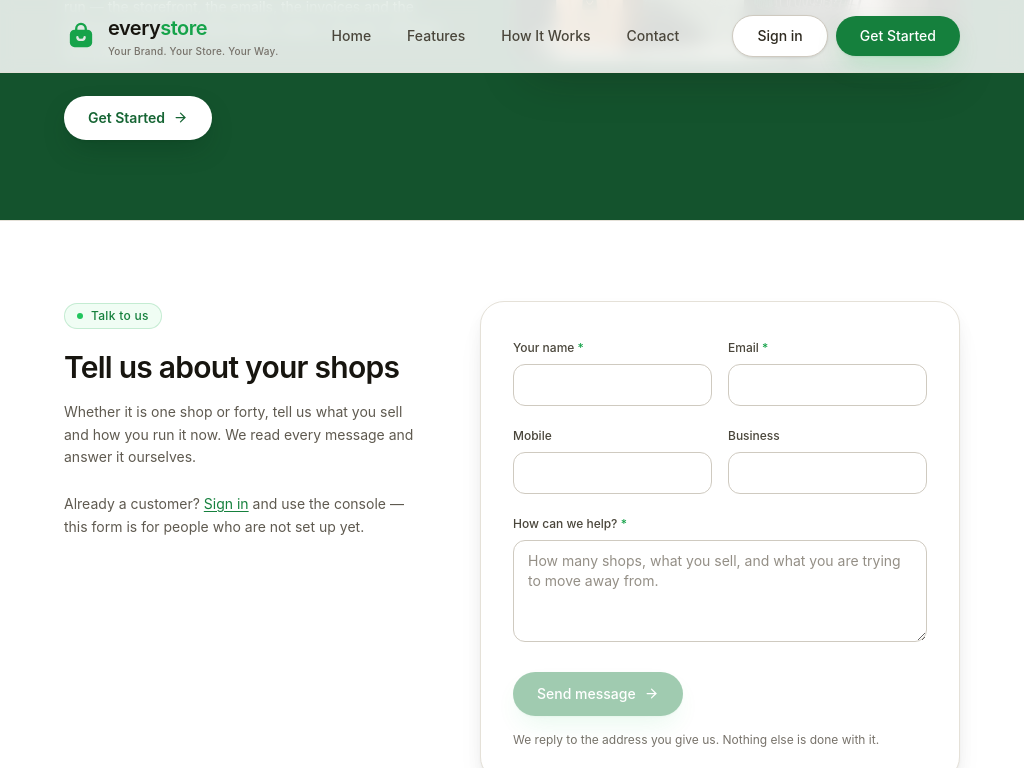
Test: the contact form on the landing page › will not send until there is a name, an address and something to say
The width and height of the screenshot is (1024, 768).
(page scrolled)
Expected: the button "Send message" is disabled, x1=513 y1=672 x2=683 y2=716
In the field labelled "Your name *": (612, 385) x1=513 y1=364 x2=712 y2=406, type "Priya Raman"
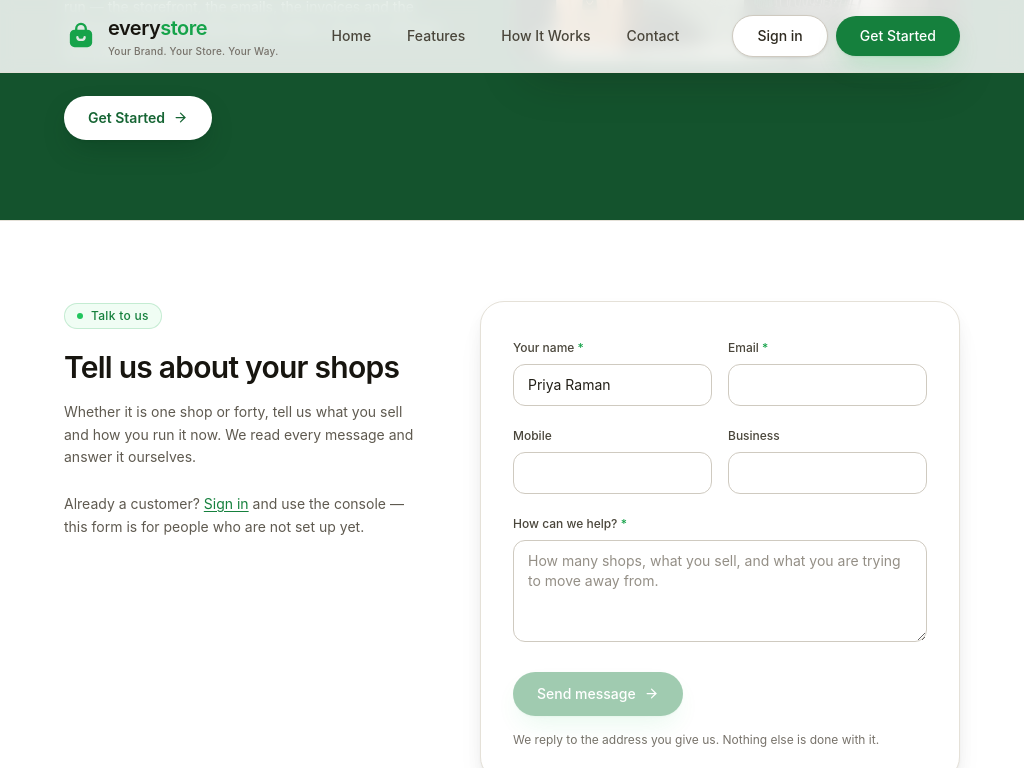
In the field labelled "Email *": (828, 385) x1=728 y1=364 x2=927 y2=406, type "priya@"
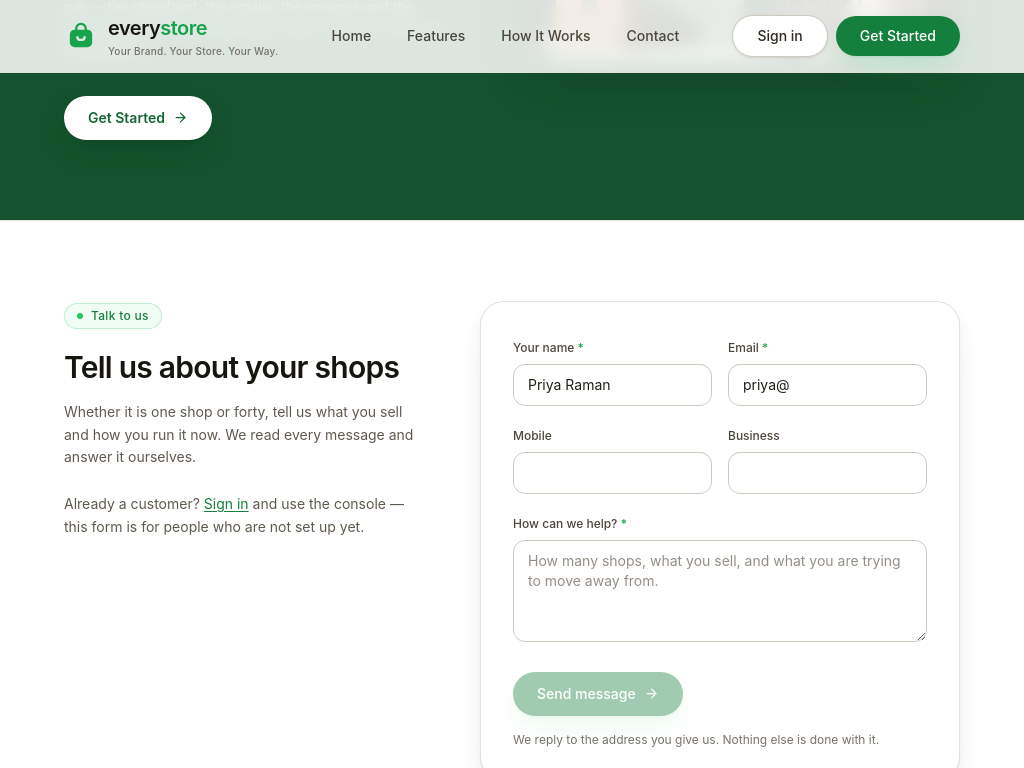
Replace the text in the text box labelled "How can we help? *" with "too short": (720, 591) x1=513 y1=540 x2=927 y2=642
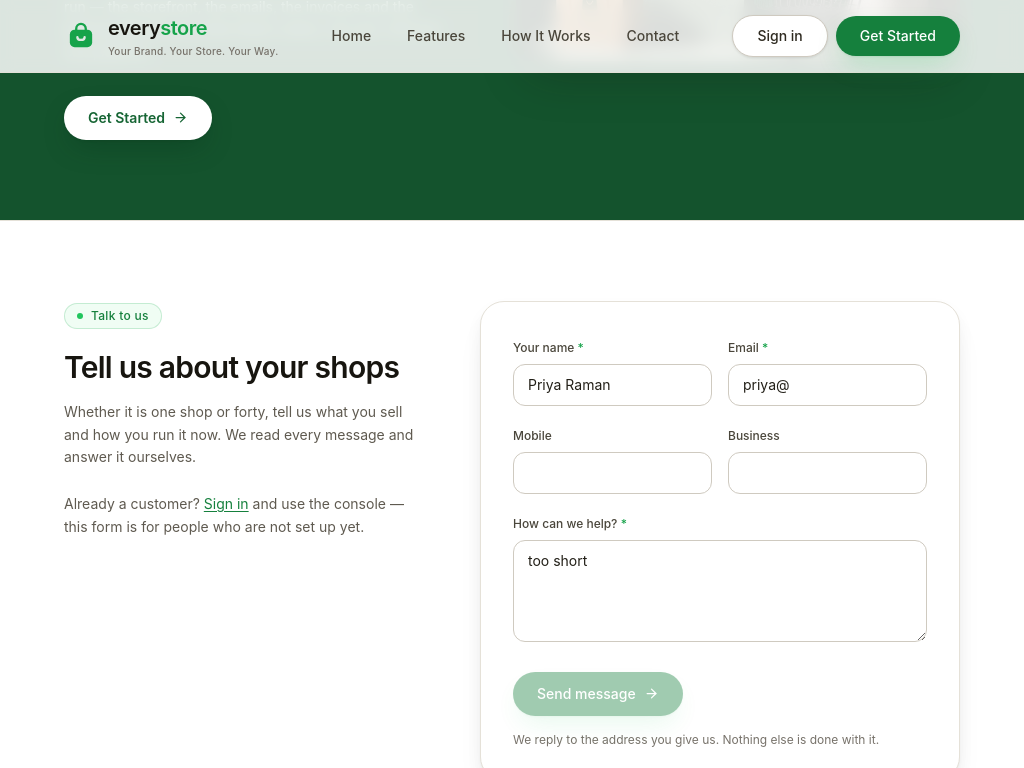
Expected: the button "Send message" is disabled, x1=513 y1=672 x2=683 y2=716
Replace the text in the field labelled "Email *" with "priya@northwind.example": (828, 385) x1=728 y1=364 x2=927 y2=406
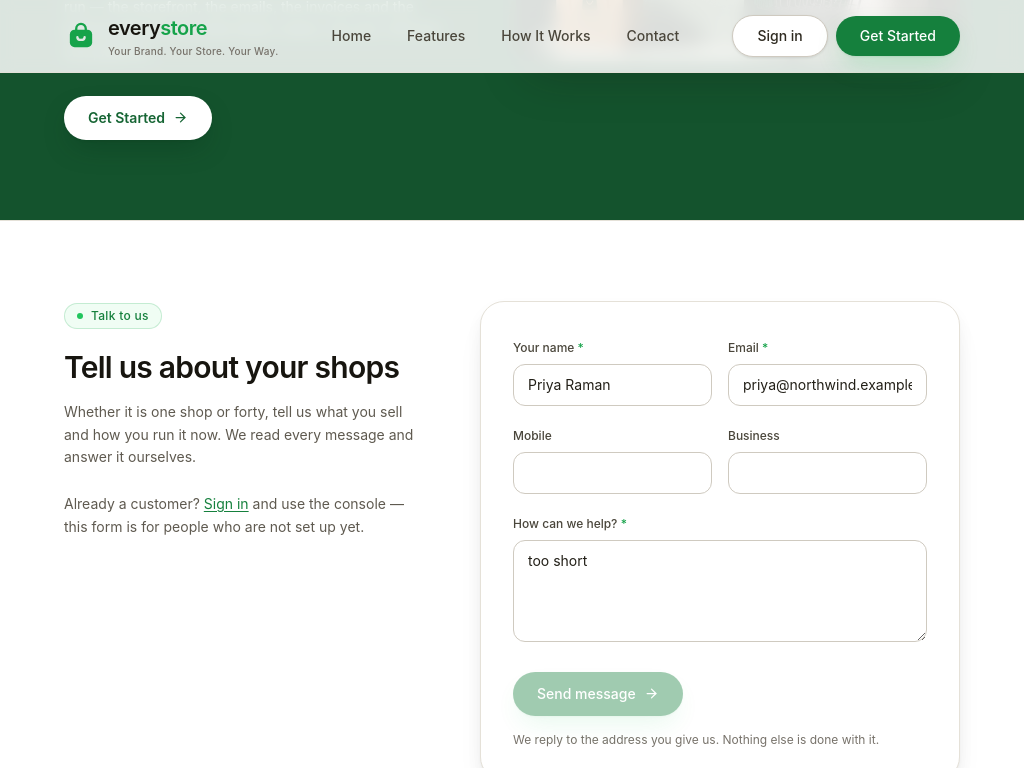
Replace the text in the text box labelled "How can we help? *" with "We run four shops and would like a demo.": (720, 591) x1=513 y1=540 x2=927 y2=642
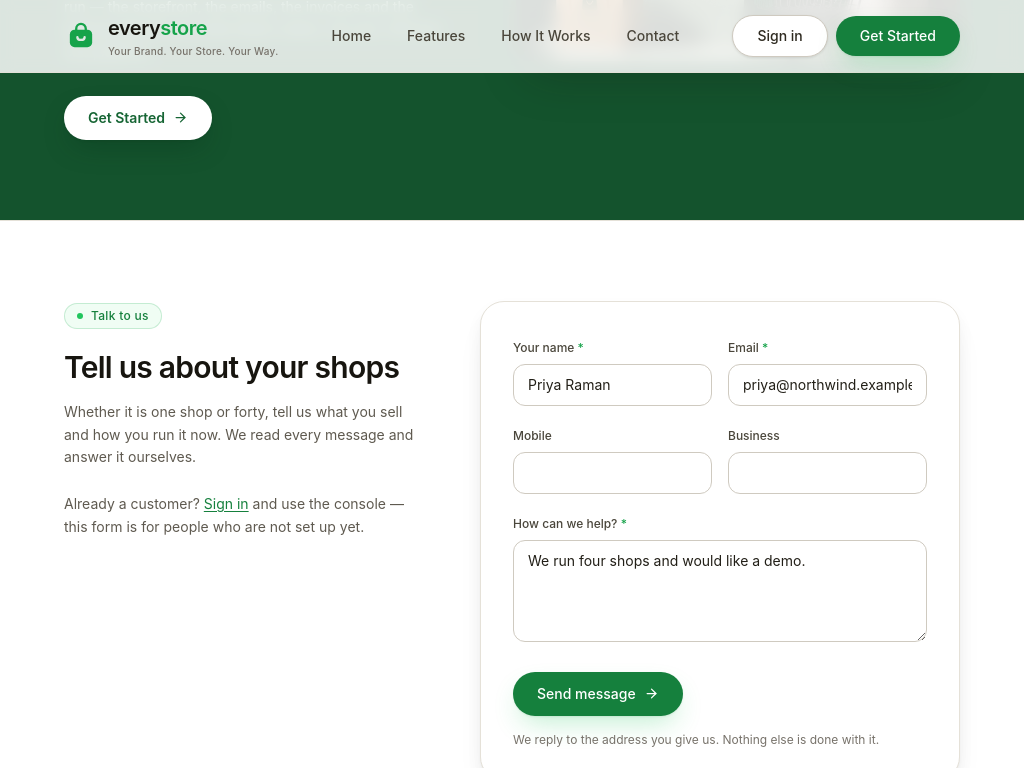
Now the button "Send message" is enabled, box x1=513 y1=672 x2=683 y2=716
